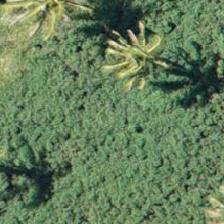coconut_tree: (76, 18, 166, 108)
